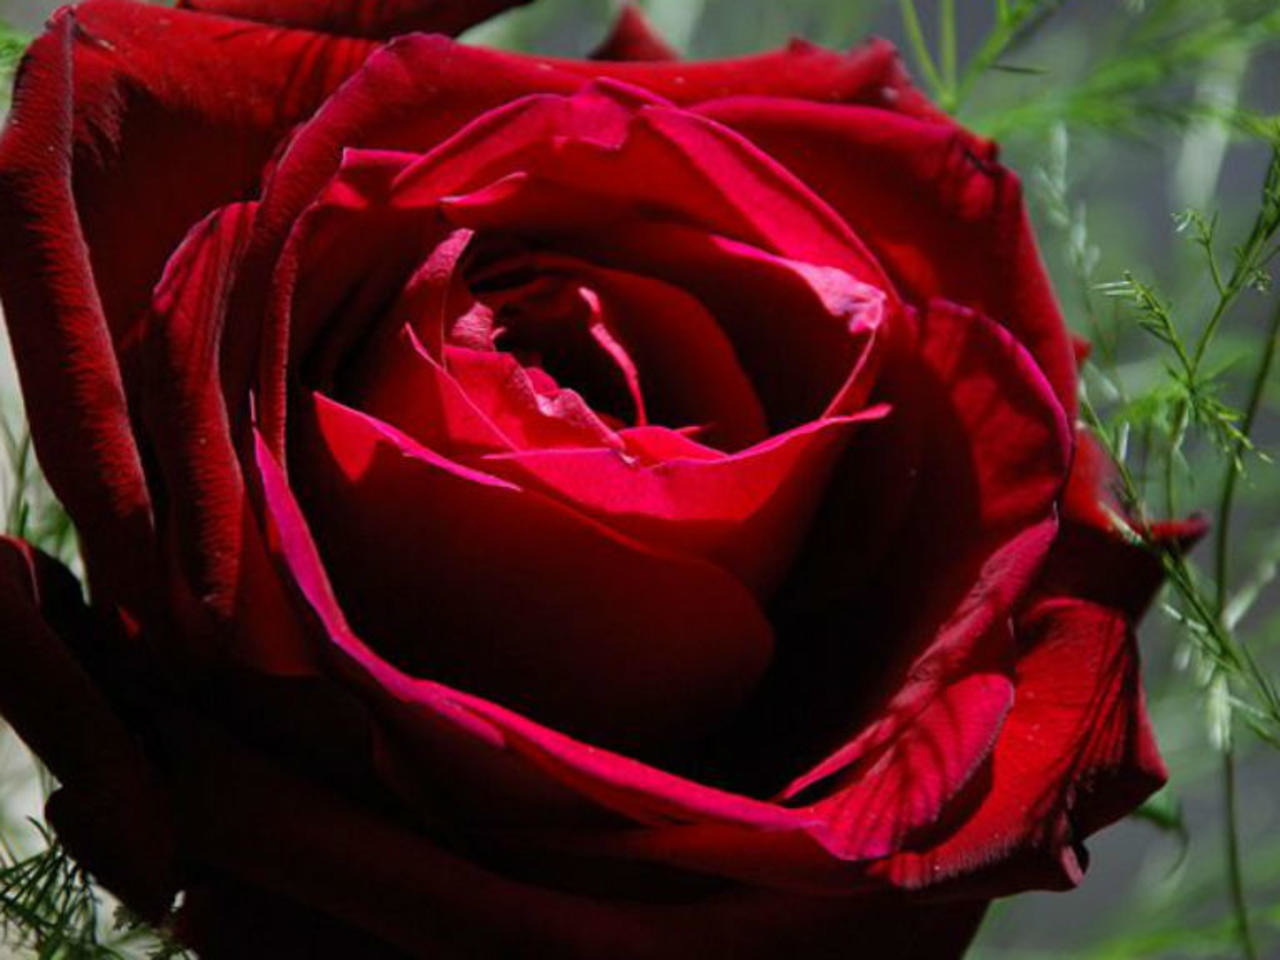rose: (5, 3, 1215, 960)
